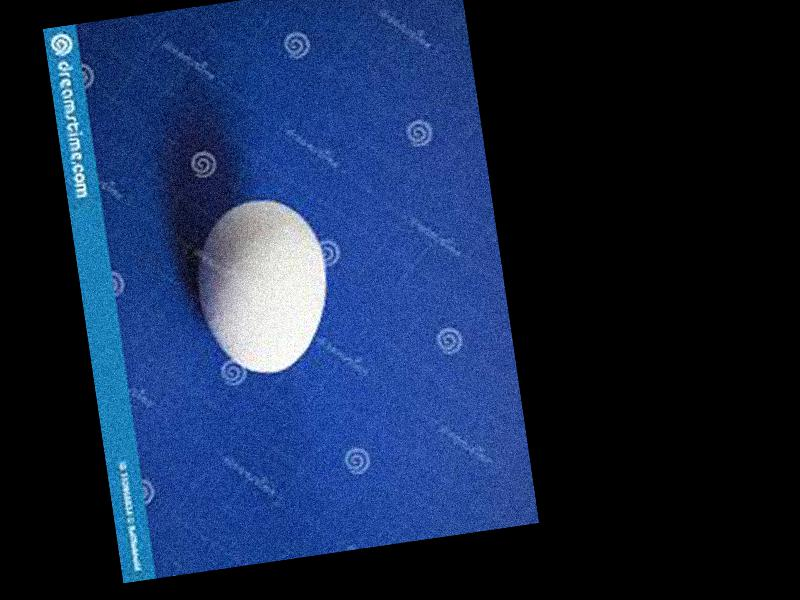Eggs: (186, 191, 337, 382)
